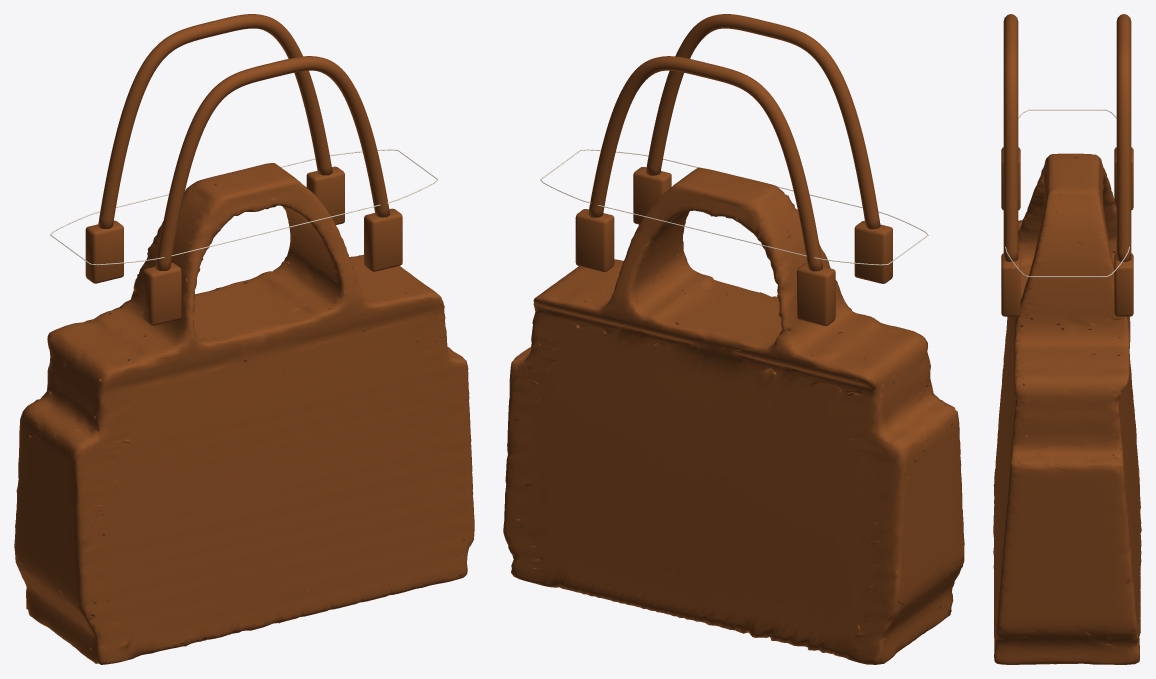
File: Sac_Luxe_repare.glb
The picture shows the model from 3 angles, left to right: view 1: azimuth 30°, elevation 25°; view 2: azimuth 150°, elevation 25°; view 3: azimuth 270°, elevation 25°; orthographic projection.
Visible parts, largest first — view 1: Sac_Luxe_Cuir_Luxe_Calibre, Sac_Luxe_Fil_Couture_Ecru; view 2: Sac_Luxe_Cuir_Luxe_Calibre, Sac_Luxe_Fil_Couture_Ecru; view 3: Sac_Luxe_Cuir_Luxe_Calibre, Sac_Luxe_Fil_Couture_Ecru.
Boxes of the visible parts, bbox=[...] form: Sac_Luxe_Cuir_Luxe_Calibre: bbox=[14, 14, 474, 664]; Sac_Luxe_Fil_Couture_Ecru: bbox=[50, 149, 437, 265]; Sac_Luxe_Cuir_Luxe_Calibre: bbox=[503, 14, 964, 664]; Sac_Luxe_Fil_Couture_Ecru: bbox=[540, 149, 928, 265]; Sac_Luxe_Cuir_Luxe_Calibre: bbox=[993, 14, 1141, 664]; Sac_Luxe_Fil_Couture_Ecru: bbox=[1005, 109, 1129, 277].
Size of the model in its own units: 0.2779 by 0.3741 by 0.0923.
